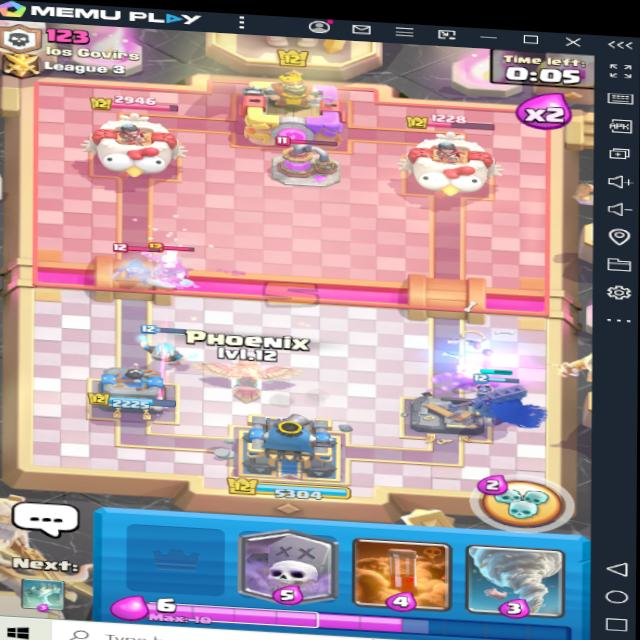bandit: (100, 248, 152, 291)
elixir-collector: (264, 133, 336, 187)
magic-archer: (146, 230, 224, 293)
